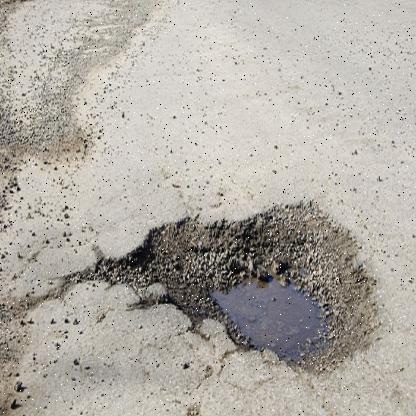pothole: (66, 189, 401, 399)
